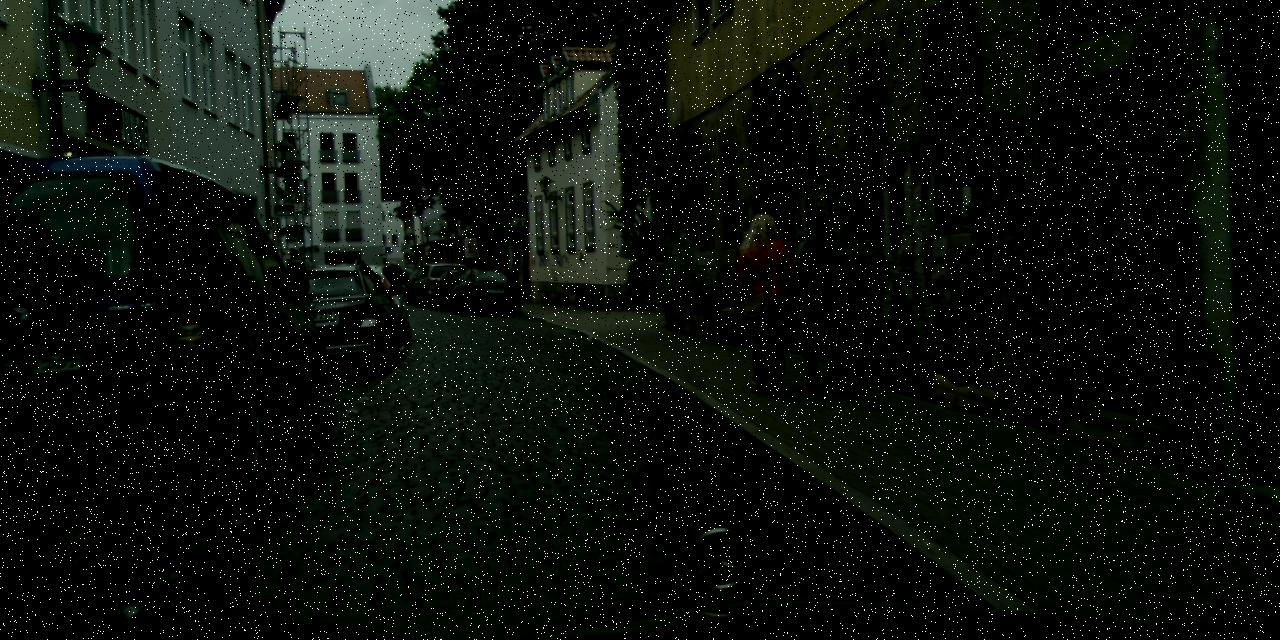ped: (729, 212, 803, 394), (784, 211, 857, 389), (387, 261, 404, 303)
